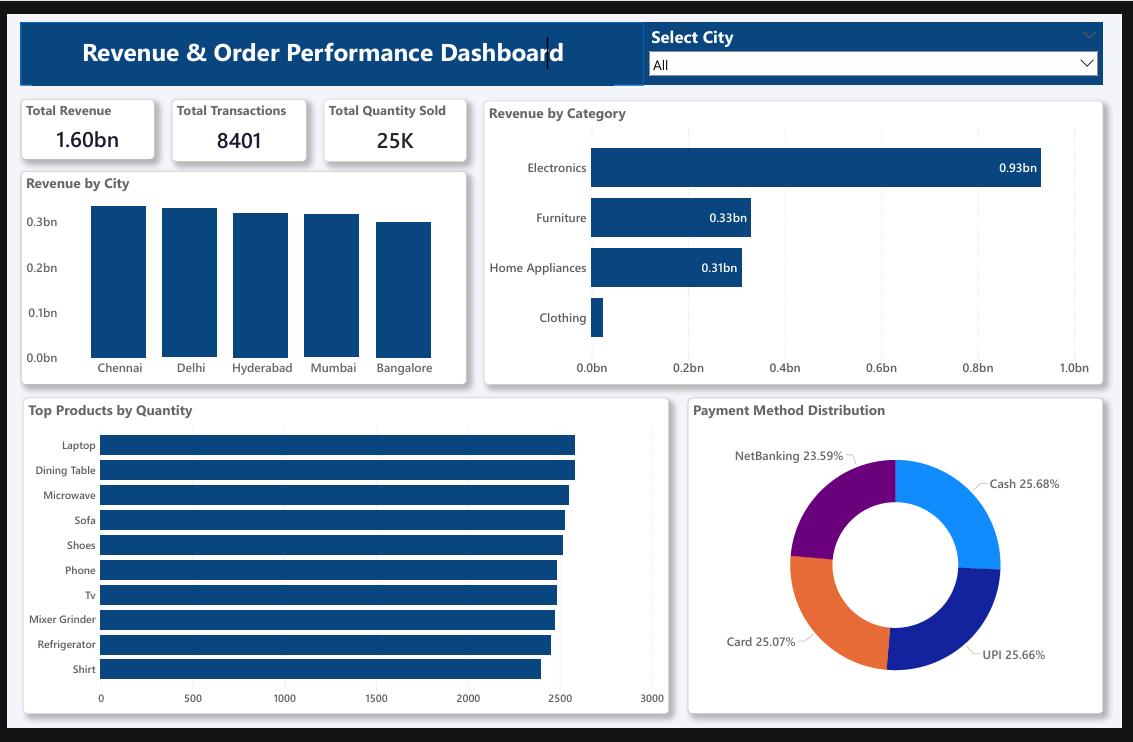

This screenshot's page, from the dashboard's own definition file:
{"tool":"powerbi","page":{"name":"Page 1","canvas":[1950,1248],"ordinal":0},"visuals":[{"type":"card","title":"Total Revenue","fields":{"Values":["Sum(final_cleaned_retail_data.revenue)"]},"box":[23.3,146.7,233.3,106.7],"z":0},{"type":"card","title":"Total Transactions","fields":{"Values":["CountNonNull(final_cleaned_retail_data.transaction_id)"]},"box":[286.7,146.7,236.7,110],"z":1000},{"type":"clusteredBarChart","title":"Revenue by Category","fields":{"Category":["final_cleaned_retail_data.category"],"Y":["Sum(final_cleaned_retail_data.revenue)"]},"box":[833.3,150,1083.3,496.7],"z":2000},{"type":"clusteredColumnChart","title":"Revenue by City","fields":{"Category":["final_cleaned_retail_data.city"],"Y":["Sum(final_cleaned_retail_data.revenue)"]},"box":[23.3,273.3,780,373.3],"z":3000},{"type":"barChart","title":"Top Products by Quantity","fields":{"Category":["final_cleaned_retail_data.product_name"],"Y":["Sum(final_cleaned_retail_data.quantity)"]},"box":[26.7,670,1130,553.3],"z":4000},{"type":"donutChart","title":"Payment Method Distribution","fields":{"Y":["Sum(final_cleaned_retail_data.transaction_id)"],"Category":["final_cleaned_retail_data.payment_method"]},"box":[1190,670,726.7,553.3],"z":5000},{"type":"slicer","fields":{"Values":["final_cleaned_retail_data.city","final_cleaned_retail_data.category","final_cleaned_retail_data.payment_method"]},"box":[1113.3,13.3,803.3,110],"z":6000},{"type":"shape","box":[23.3,13.3,1090,110],"z":7000},{"type":"textbox","box":[86.7,36.7,966.7,63.3],"z":8000},{"type":"card","title":"Total Quantity Sold","fields":{"Values":["Sum(final_cleaned_retail_data.quantity)"]},"box":[553.3,146.7,250,110],"z":9000}]}

Visuals, with their boxes in screenshot pixels (x1, y1, x2, y2), scaled from the page's 1950x1248 canvas onto the 1133x742 screenshot:
"Total Revenue" card: {"x1": 14, "y1": 87, "x2": 149, "y2": 151}
"Total Transactions" card: {"x1": 167, "y1": 87, "x2": 304, "y2": 153}
"Revenue by Category" clusteredBarChart: {"x1": 484, "y1": 89, "x2": 1114, "y2": 384}
"Revenue by City" clusteredColumnChart: {"x1": 14, "y1": 162, "x2": 467, "y2": 384}
"Top Products by Quantity" barChart: {"x1": 16, "y1": 398, "x2": 672, "y2": 727}
"Payment Method Distribution" donutChart: {"x1": 691, "y1": 398, "x2": 1114, "y2": 727}
slicer - final_cleaned_retail_data.city x final_cleaned_retail_data.category: {"x1": 647, "y1": 8, "x2": 1114, "y2": 73}
shape: {"x1": 14, "y1": 8, "x2": 647, "y2": 73}
textbox: {"x1": 50, "y1": 22, "x2": 612, "y2": 59}
"Total Quantity Sold" card: {"x1": 321, "y1": 87, "x2": 467, "y2": 153}
